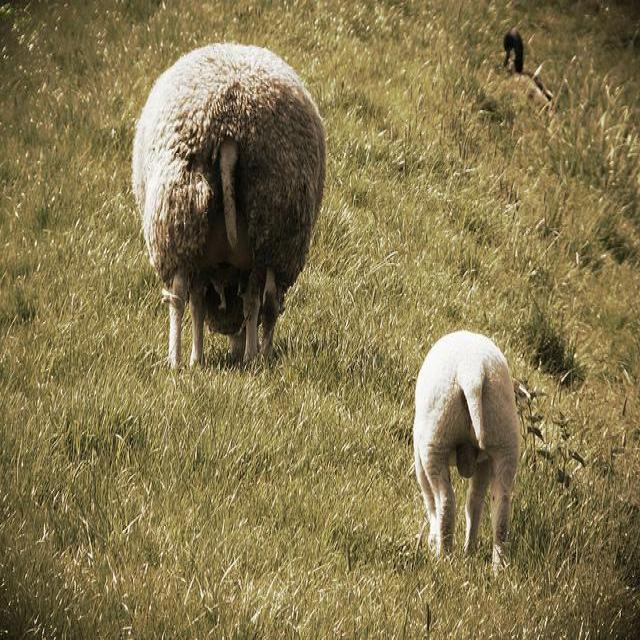Sheep: (132, 46, 330, 369), (414, 330, 520, 568)
